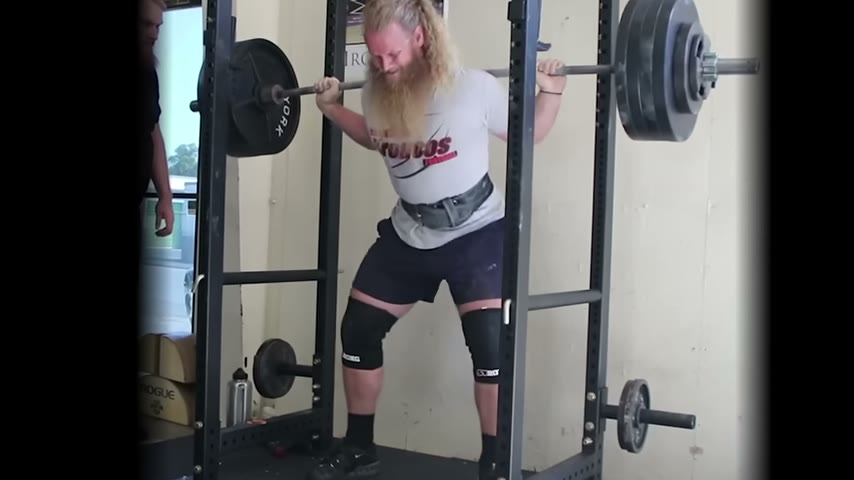barbell_plate_side: (671, 2, 758, 149), (196, 32, 284, 165), (623, 378, 698, 459)
